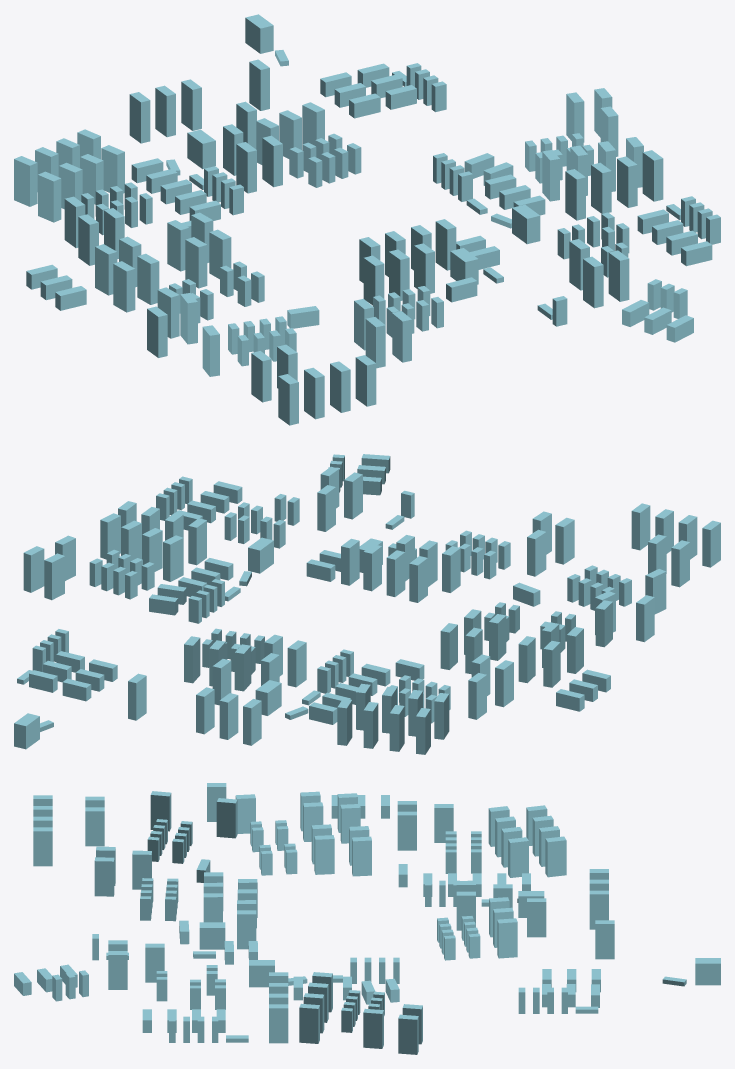
Rendered from dadifang.obj.
The picture shows the model from 3 angles, top to bottom: view 1: azimuth 30°, elevation 25°; view 2: azimuth 150°, elevation 25°; view 3: azimuth 270°, elevation 25°; orthographic projection. The views are drawn at different scales.
Visible parts, largest first — view 1: Box253; view 2: Box253; view 3: Box253.
Boxes of the visible parts, <box> form: Box253: <box>14,14,720,425</box>; Box253: <box>14,454,720,754</box>; Box253: <box>14,783,720,1054</box>.
Size of the model in its own units: 1620 by 107 by 1958.
